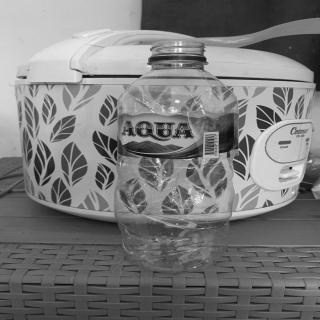plastic_bottles: (111, 39, 237, 276)
